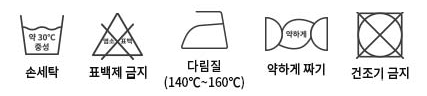KR_gentle_wring: (260, 11, 332, 58)
KR_hand_wash_30_neutral: (18, 10, 67, 58)
KR_no_chlorine_bleach: (90, 10, 146, 61)
KR_no_tumble_dry: (351, 6, 407, 62)
